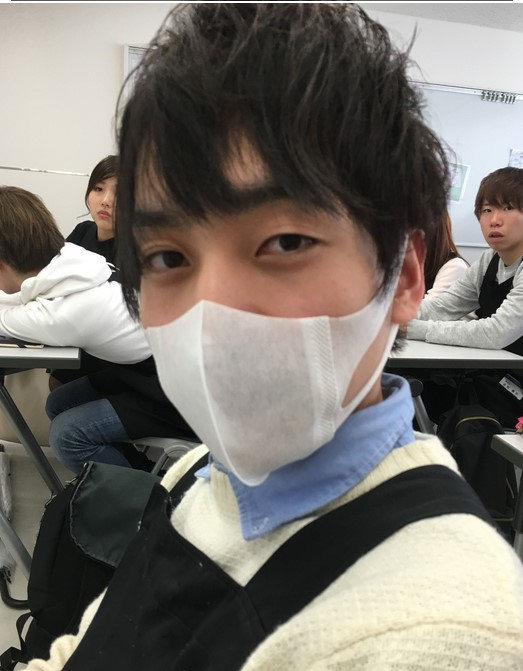face_no_mask: (470, 167, 523, 254), (83, 157, 115, 232)
face_with_mask: (114, 29, 442, 491)
